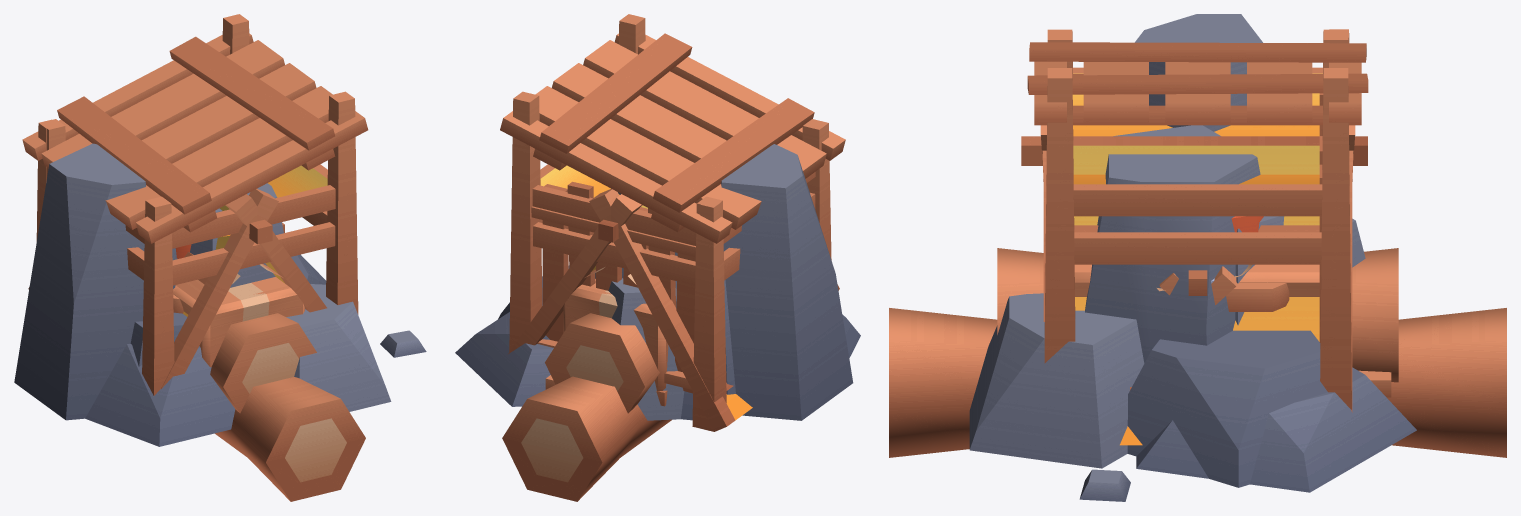
The model's file is sobrevivencia.glb.
The picture shows the model from 3 angles, left to right: view 1: azimuth 30°, elevation 25°; view 2: azimuth 150°, elevation 25°; view 3: azimuth 270°, elevation 25°; orthographic projection. The views are drawn at different scales.
Parts seen in each view (by area): view 1: Group, rock-c, rock-b, structure-roof, tree-log, tent, tree-log-small, box-large, structure, structure-canvas, fence, box-large-open; view 2: Group, rock-c, structure-roof, tree-log, tent, rock-b, tree-log-small, fence, fence-fortified, structure, box-large, structure-canvas (+1 smaller); view 3: rock-b, tree-log, structure-roof, Group, rock-c, structure, tree-log-small, tent-canvas, tent, structure-canvas, workbench, box-large (+2 smaller).
Part boxes in pixels (x1=…): Group: x1=22, y1=33, x2=368, y2=243; rock-c: x1=14, y1=143, x2=326, y2=420; rock-b: x1=85, y1=183, x2=426, y2=446; structure-roof: x1=42, y1=14, x2=358, y2=395; tree-log: x1=28, y1=287, x2=365, y2=501; tent: x1=161, y1=189, x2=326, y2=388; tree-log-small: x1=210, y1=313, x2=316, y2=413; box-large: x1=173, y1=277, x2=304, y2=367; structure: x1=125, y1=164, x2=335, y2=248; structure-canvas: x1=223, y1=165, x2=327, y2=236; fence: x1=36, y1=119, x2=56, y2=241; box-large-open: x1=176, y1=264, x2=290, y2=304; Group: x1=500, y1=33, x2=845, y2=243; rock-c: x1=498, y1=144, x2=853, y2=420; structure-roof: x1=509, y1=14, x2=831, y2=427; tree-log: x1=502, y1=284, x2=839, y2=501; tent: x1=508, y1=188, x2=735, y2=431; rock-b: x1=455, y1=192, x2=860, y2=420; tree-log-small: x1=545, y1=313, x2=659, y2=413; fence: x1=531, y1=199, x2=724, y2=431; fence-fortified: x1=542, y1=181, x2=695, y2=393; structure: x1=532, y1=164, x2=815, y2=245; box-large: x1=563, y1=279, x2=668, y2=391; structure-canvas: x1=540, y1=165, x2=619, y2=197; rock-b: x1=969, y1=125, x2=1416, y2=501; tree-log: x1=889, y1=308, x2=1506, y2=457; structure-roof: x1=1044, y1=29, x2=1351, y2=409; Group: x1=1027, y1=42, x2=1368, y2=125; rock-c: x1=1127, y1=14, x2=1327, y2=487; structure: x1=1073, y1=67, x2=1322, y2=216; tree-log-small: x1=997, y1=248, x2=1398, y2=382; tent-canvas: x1=1073, y1=145, x2=1319, y2=445; tent: x1=1021, y1=125, x2=1367, y2=412; structure-canvas: x1=1072, y1=73, x2=1322, y2=184; workbench: x1=1226, y1=283, x2=1289, y2=311; box-large: x1=1074, y1=272, x2=1319, y2=296.
Bounding box in the file's own units: 0.8376 × 0.7628 × 1.
1 material, 1 textured.
